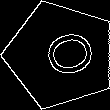O_W: (29, 27, 93, 83)
